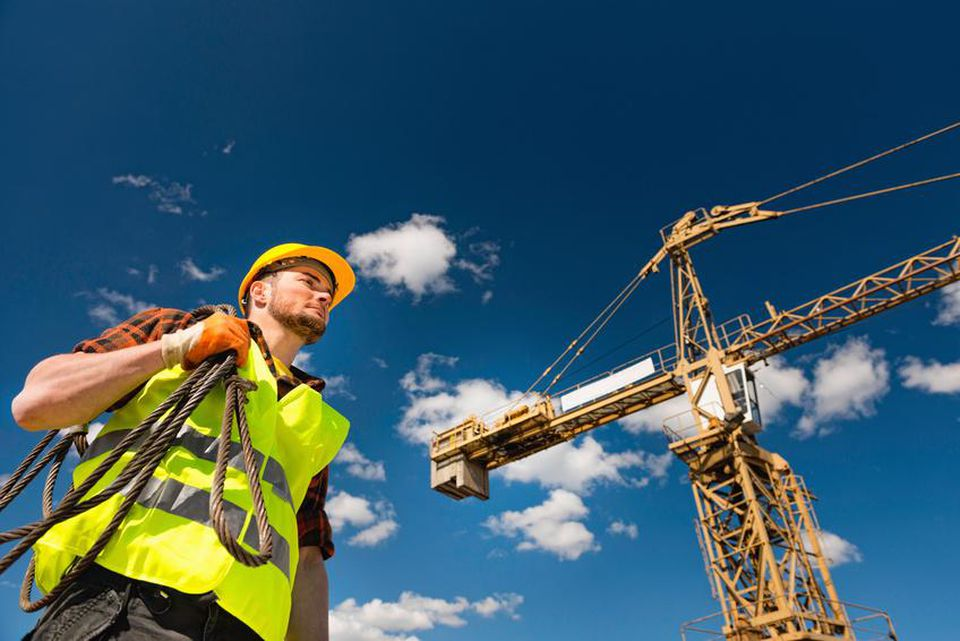hard hat: (240, 242, 358, 309)
high-vis: (22, 341, 352, 640)
